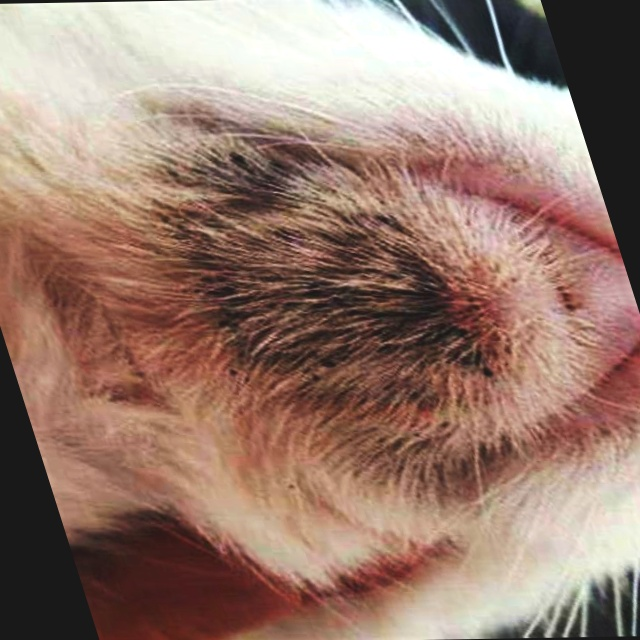acne: (150, 152, 521, 430)
